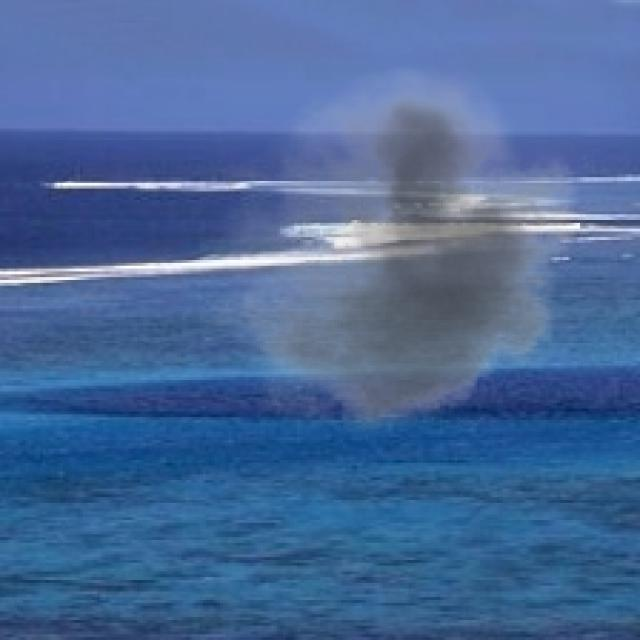smoke: (197, 66, 594, 448)
